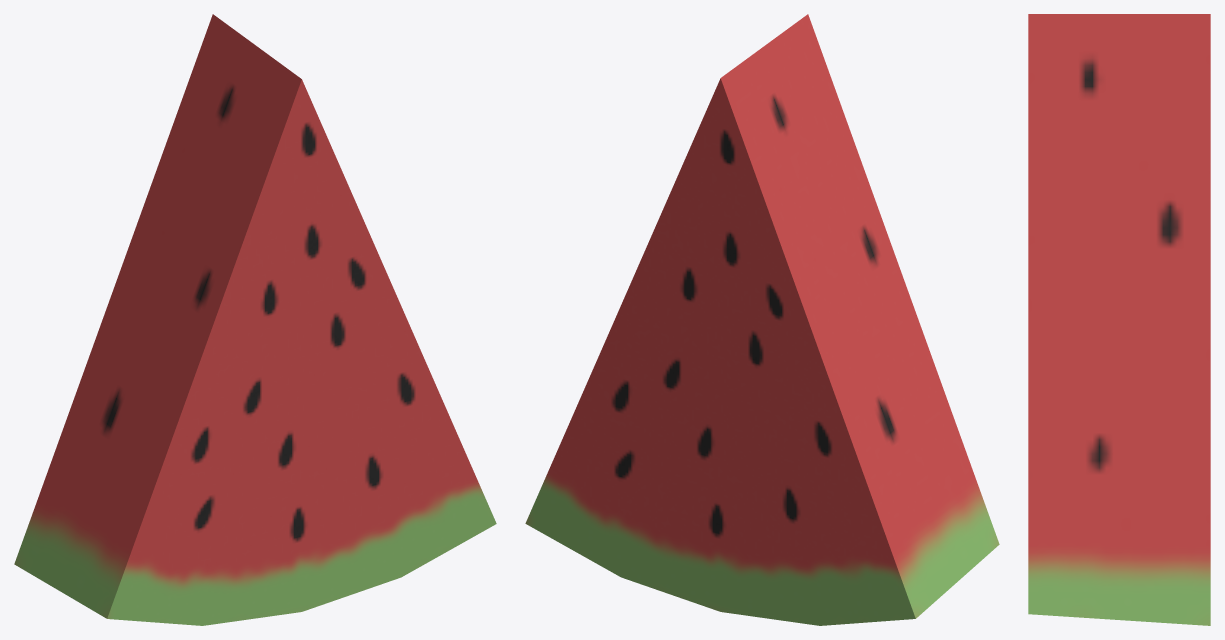
The model's file is WaterMelon_SmallSlice.fbx.
3 renders of one model, left to right at view 1: azimuth 30°, elevation 25°; view 2: azimuth 150°, elevation 25°; view 3: azimuth 270°, elevation 25°, orthographic. The views are drawn at different scales.
Visible parts, largest first — view 1: Sphere.006; view 2: Sphere.006; view 3: Sphere.006.
Boxes of the visible parts, <box> form: Sphere.006: <box>14,14,496,625</box>; Sphere.006: <box>525,14,999,625</box>; Sphere.006: <box>1028,14,1210,625</box>.
Size of the model in its own units: 74.41 by 97.22 by 28.89.
